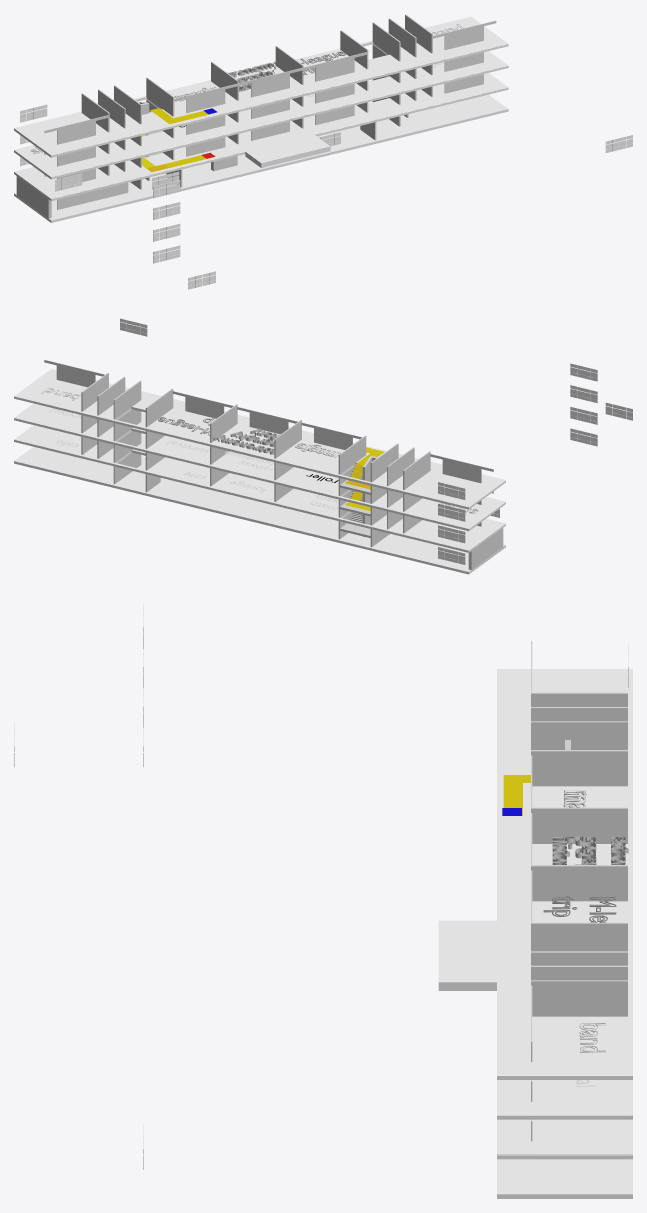
File: from数学to奇術.glb
3 views of the same model, one above another, from view 1: azimuth 30°, elevation 25°; view 2: azimuth 150°, elevation 25°; view 3: azimuth 270°, elevation 25° (orthographic). The views are drawn at different scales.
Visible parts, largest first — view 1: floor 4F, floor 3F, floor 2F, floor 1F, ceiling Gate.001, wall 1D~1D, wall 1B~1B, wall 1A~1A, wall Civics~Civics, wall 1C~1C, wall Club~Club, wall Out 1F (+20 smaller); view 2: floor 4F, floor 1F, floor 2F, floor 3F, 天文 地歴, wall Civics~Civics, wall 1A~1A, wall 1C~1C, wall 1B~1B, wall 1D~1D, wall Out 1F, wall Str4F2~W4F2 (+13 smaller); view 3: floor 4F, floor 2F, floor 1F, floor 3F, ceiling Gate.001, wall Lang2~1A, wall Str4F1~1D, wall 1C~1B, wall 1D~1C, wall 1B~Str4F2, wall W4F1~Str4F1, wall W4F2~Lang2 (+4 smaller).
Part boxes in pixels (bbox=[...]): floor 4F: bbox=[14, 16, 508, 157]; floor 3F: bbox=[14, 51, 508, 179]; floor 2F: bbox=[14, 73, 508, 201]; floor 1F: bbox=[14, 94, 508, 222]; ceiling Gate.001: bbox=[245, 134, 330, 167]; wall 1D~1D: bbox=[174, 83, 237, 113]; wall 1B~1B: bbox=[303, 52, 366, 81]; wall 1A~1A: bbox=[433, 20, 496, 49]; wall Civics~Civics: bbox=[44, 115, 108, 144]; wall 1C~1C: bbox=[239, 68, 302, 97]; wall Club~Club: bbox=[57, 182, 128, 209]; wall Out 1F: bbox=[16, 176, 51, 218]; floor 4F: bbox=[14, 369, 505, 509]; floor 1F: bbox=[14, 447, 505, 574]; floor 2F: bbox=[14, 425, 505, 552]; floor 3F: bbox=[14, 403, 505, 531]; 天文 地歴: bbox=[213, 428, 279, 454]; wall Civics~Civics: bbox=[430, 454, 493, 483]; wall 1A~1A: bbox=[44, 360, 104, 387]; wall 1C~1C: bbox=[237, 407, 297, 434]; wall 1B~1B: bbox=[173, 391, 233, 418]; wall 1D~1D: bbox=[301, 422, 361, 449]; wall Out 1F: bbox=[468, 528, 503, 569]; wall Str4F2~W4F2: bbox=[113, 380, 141, 419]; floor 4F: bbox=[497, 669, 632, 1079]; floor 2F: bbox=[497, 1119, 632, 1159]; floor 1F: bbox=[497, 1159, 632, 1198]; floor 3F: bbox=[497, 1080, 632, 1119]; ceiling Gate.001: bbox=[438, 920, 496, 990]; wall Lang2~1A: bbox=[531, 980, 627, 1016]; wall Str4F1~1D: bbox=[531, 750, 627, 786]; wall 1C~1B: bbox=[531, 865, 627, 901]; wall 1D~1C: bbox=[531, 807, 627, 843]; wall 1B~Str4F2: bbox=[531, 922, 627, 951]; wall W4F1~Str4F1: bbox=[531, 721, 627, 749]; wall W4F2~Lang2: bbox=[531, 965, 627, 980].
Size of the model in its own units: 78.71 by 16.46 by 47.76.
